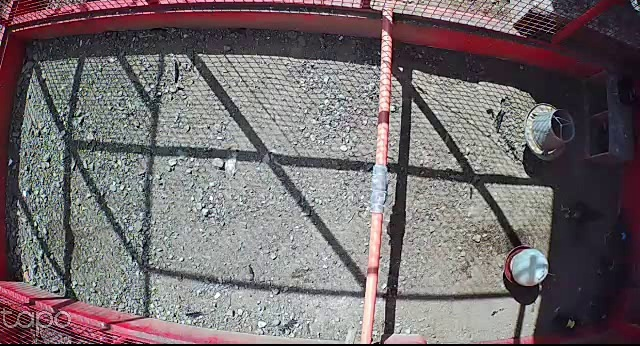Chicken: (599, 210, 638, 261), (594, 261, 640, 300), (543, 302, 584, 339), (557, 196, 603, 228), (585, 293, 618, 324)
Drinker: (503, 246, 549, 287)
Feeder: (524, 102, 578, 163)
Saddle_Color_Blue: (621, 233, 627, 240)
Saddle_Color_Yellow: (566, 319, 575, 329)
